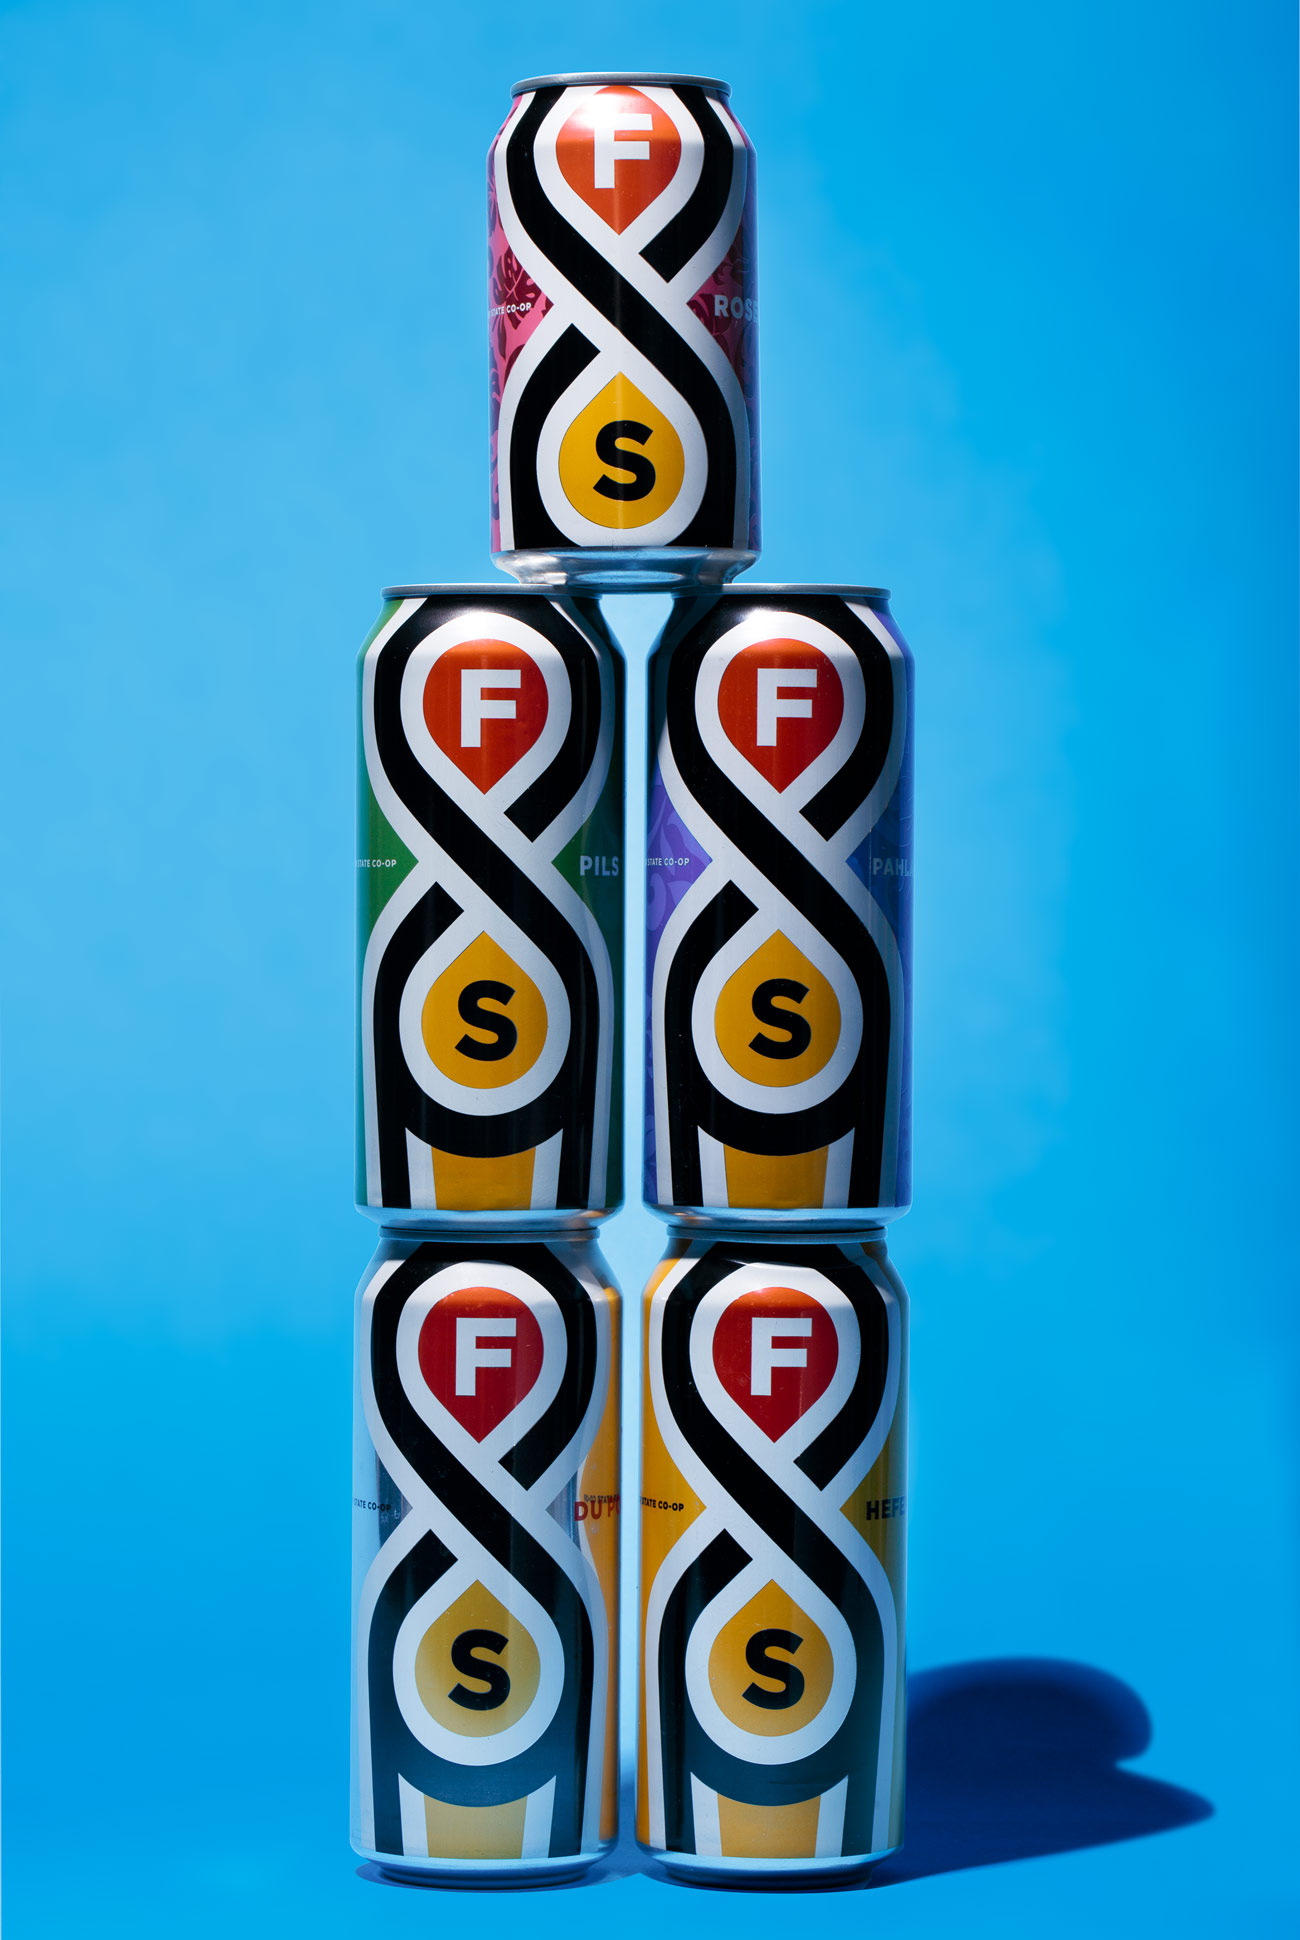beer can: (329, 1223, 637, 1891), (633, 1228, 926, 1891), (637, 588, 929, 1245), (351, 580, 633, 1255), (483, 73, 772, 580)
